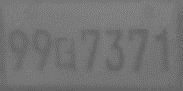1: (154, 28, 171, 76)
3: (103, 27, 125, 73)
7: (78, 27, 102, 76), (126, 27, 150, 73)
9: (8, 29, 30, 72), (32, 27, 52, 72)
더: (52, 36, 78, 74)
